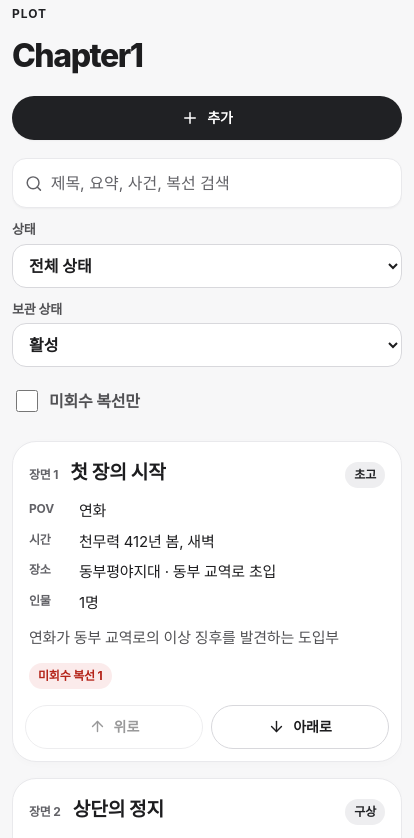
Task 10 Plot pages › filters unresolved clues and status in the URL and hides reorder while filtered
Click the checkbox labelled "미회수 복선만" at (27, 401), box x1=16 y1=390 x2=38 y2=412
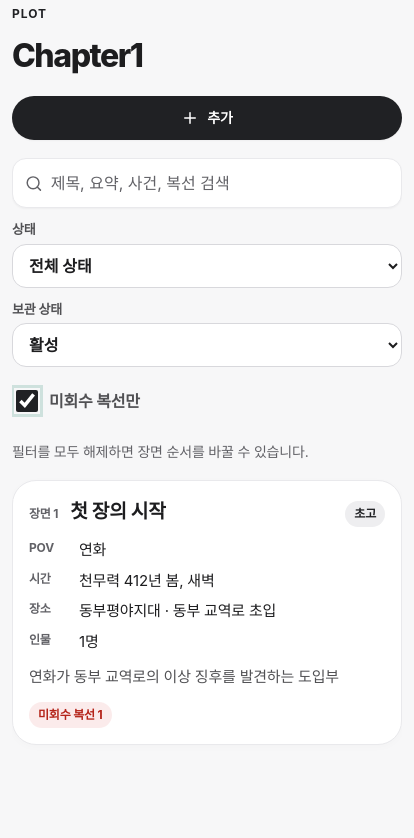
Result: the text "필터를 모두 해제하면 장면 순서를 바꿀 수 있습니다." is shown at x1=12 y1=443 x2=308 y2=460
Select "구상" in the dropdown named "장면 상태 필터" at (207, 266), box x1=12 y1=244 x2=402 y2=288
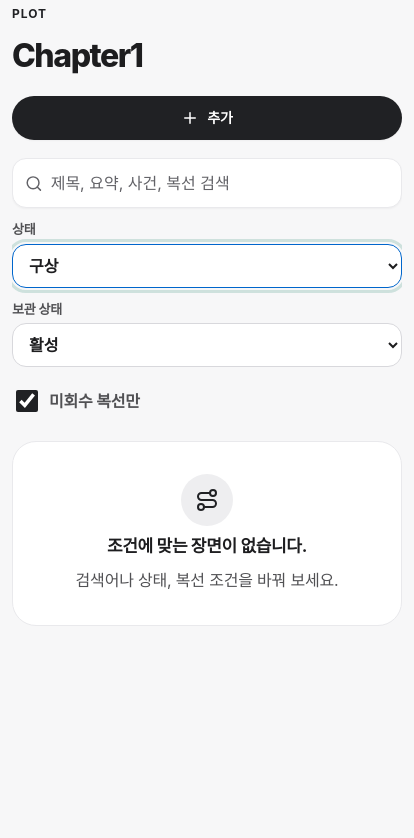
Result: the heading "조건에 맞는 장면이 없습니다." is shown at x1=107 y1=534 x2=307 y2=560
